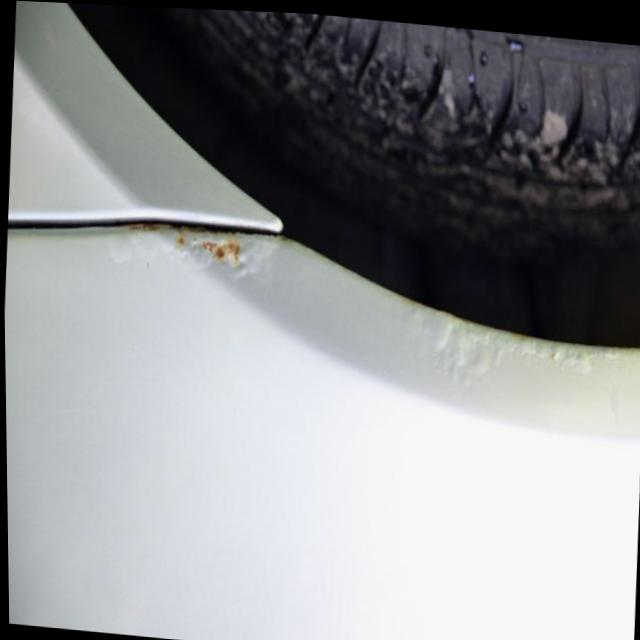Rust: (109, 220, 291, 277)
